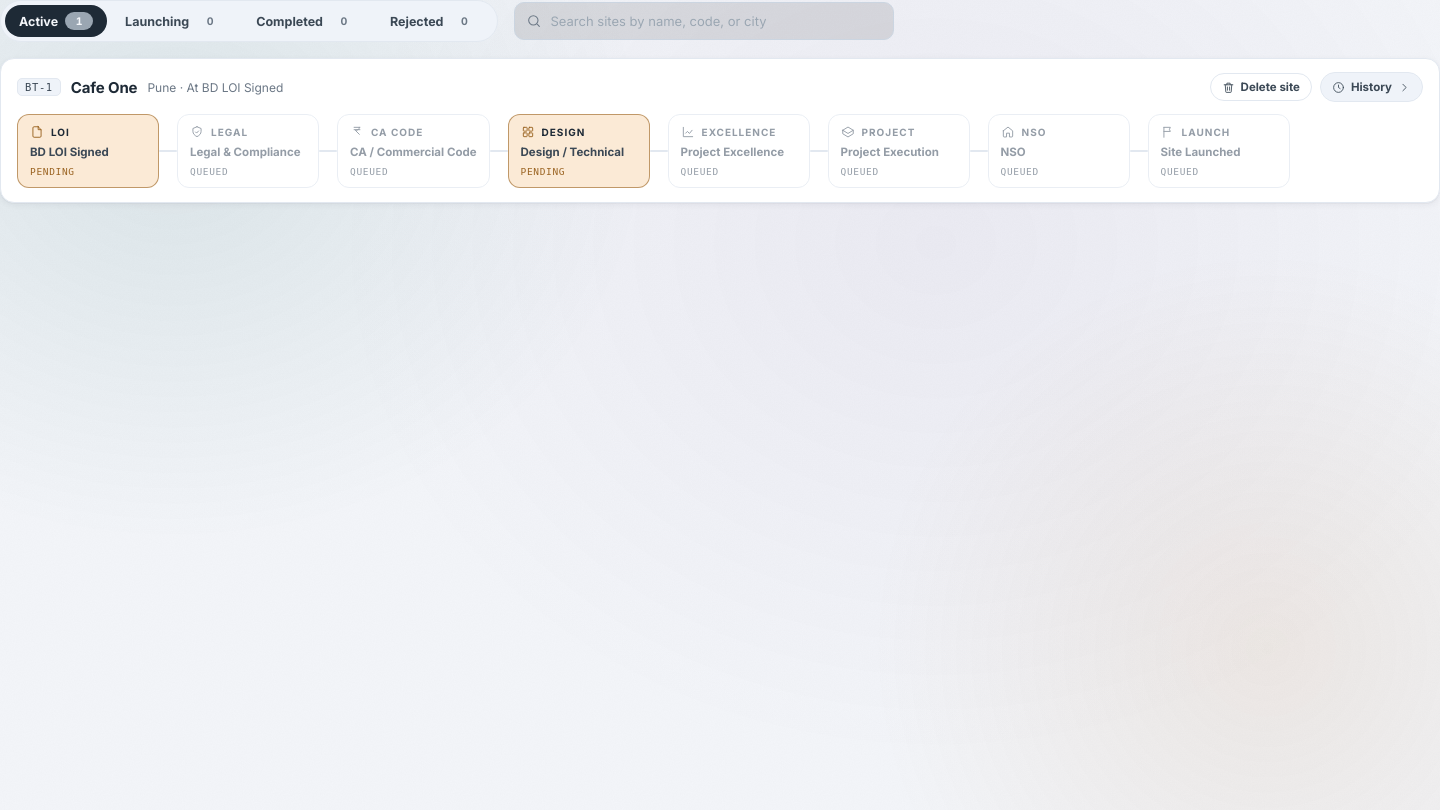
undo button visibility › appears only on the audit entry the snapshot points at
Click the text "Cafe One" at (104, 87), box x1=71 y1=78 x2=137 y2=96
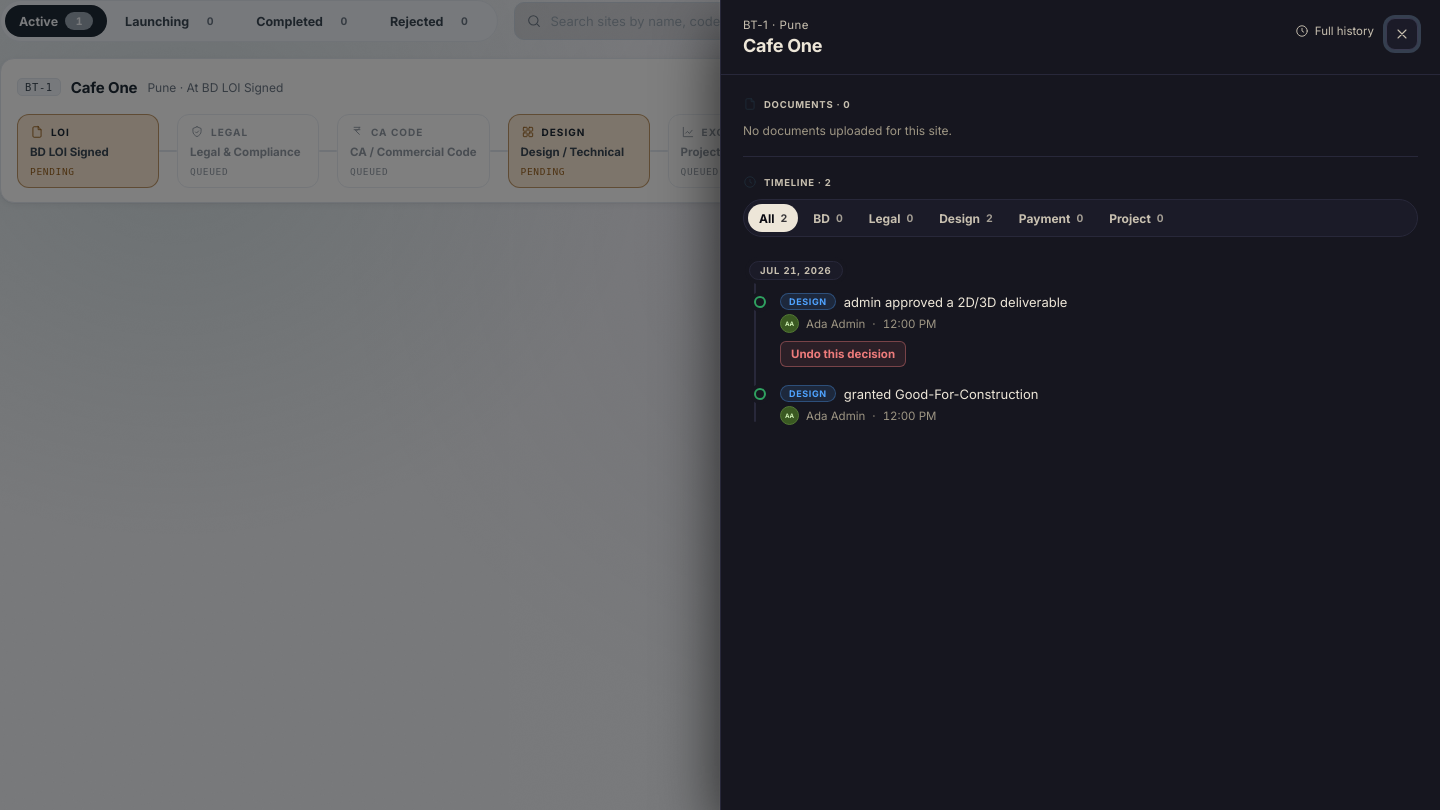
expect the number of buttons "Undo this decision" is 1: met, box x1=780 y1=341 x2=906 y2=367
